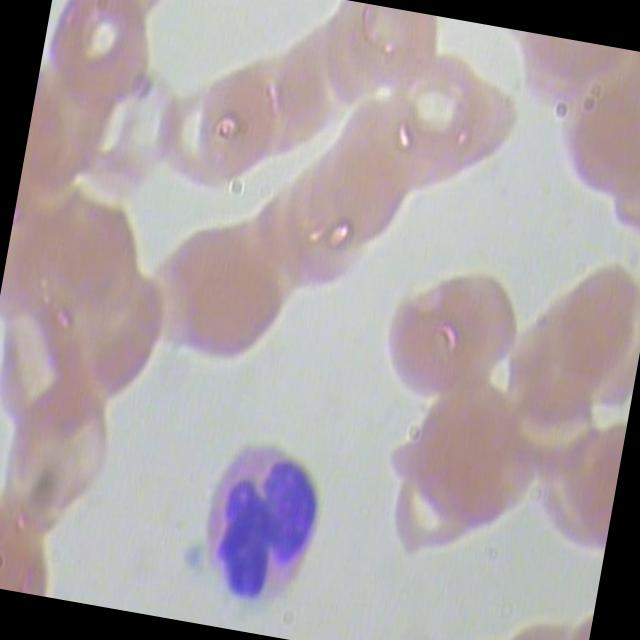Platelets: (179, 541, 208, 577)
WBC: (184, 426, 341, 629)
